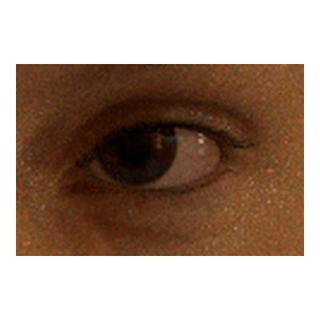pupil: (117, 127, 152, 161)
